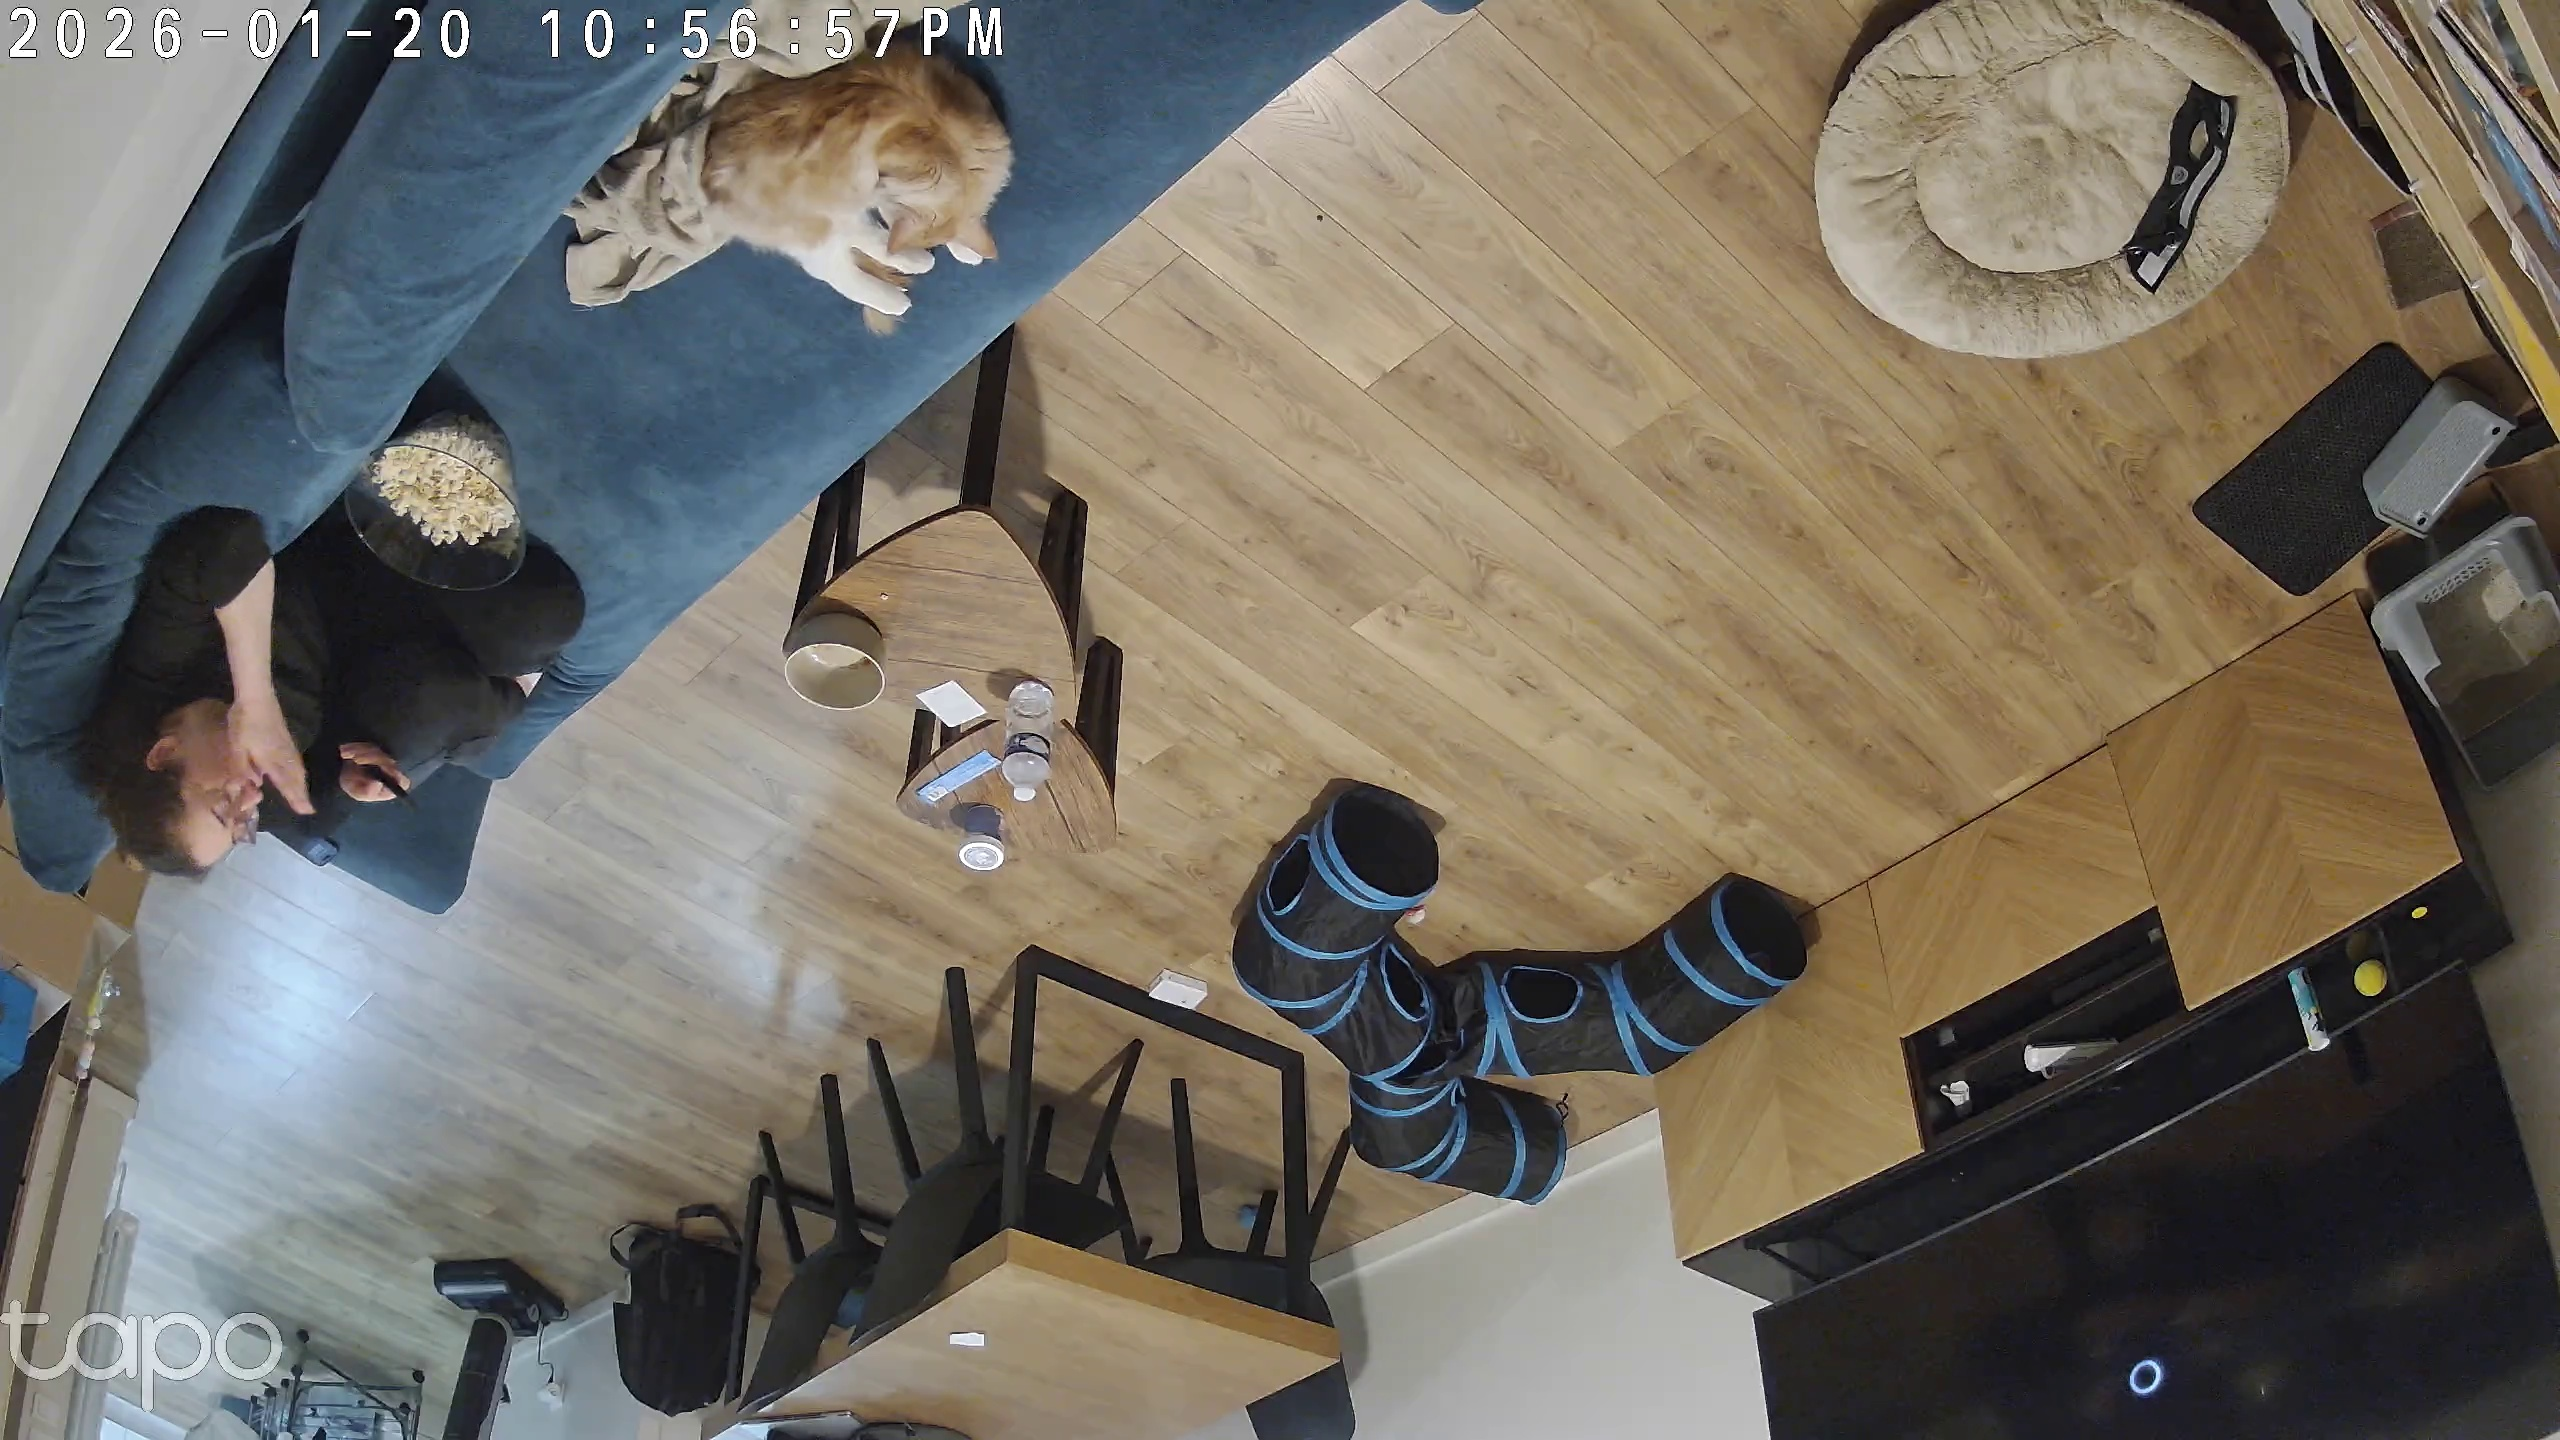Simba: (677, 28, 1073, 343)
